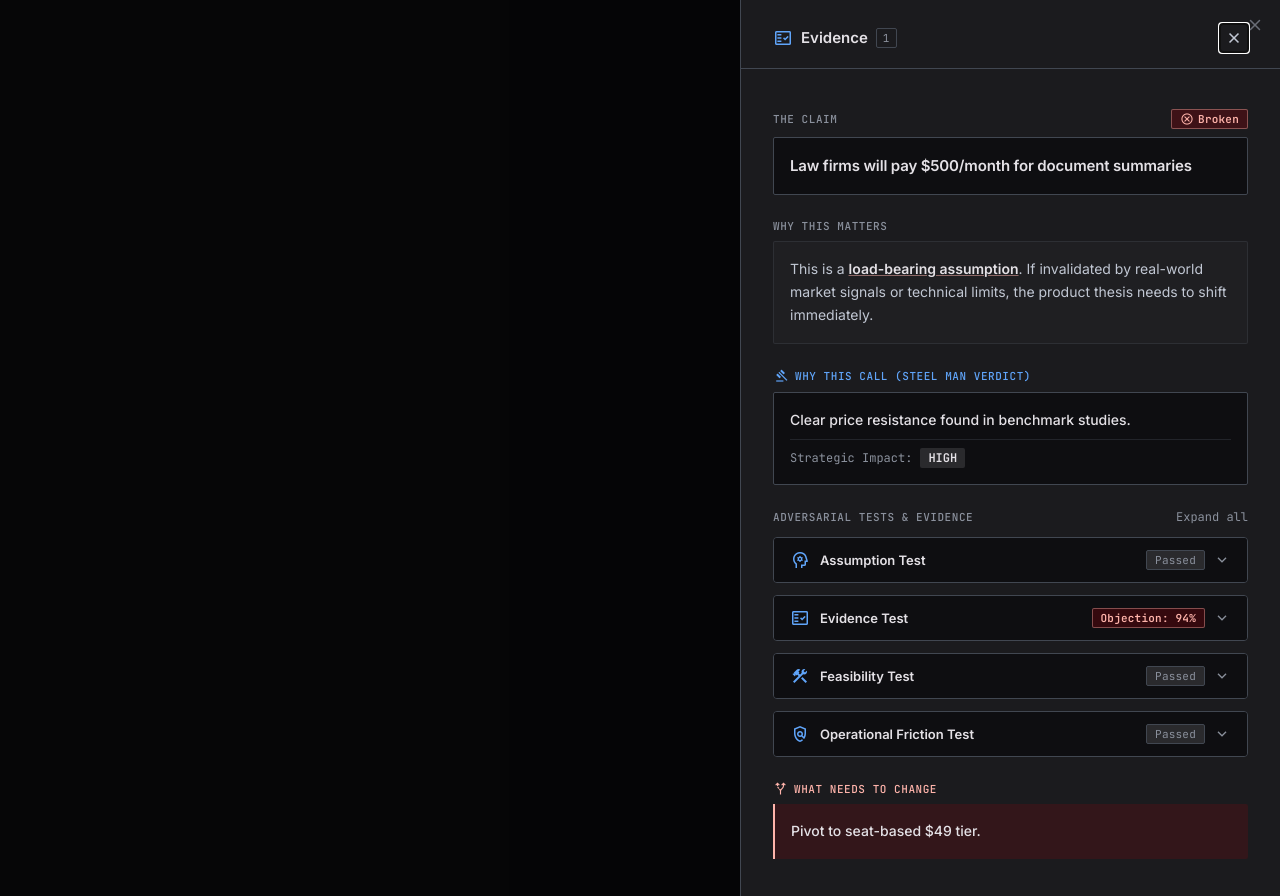
EvidenceDrawer › renders summarized findings for each test window when opened
Note: Open Assumption Test
Click the button "Assumption Test Passed": (873, 560) left=774, top=538, right=1247, bottom=582
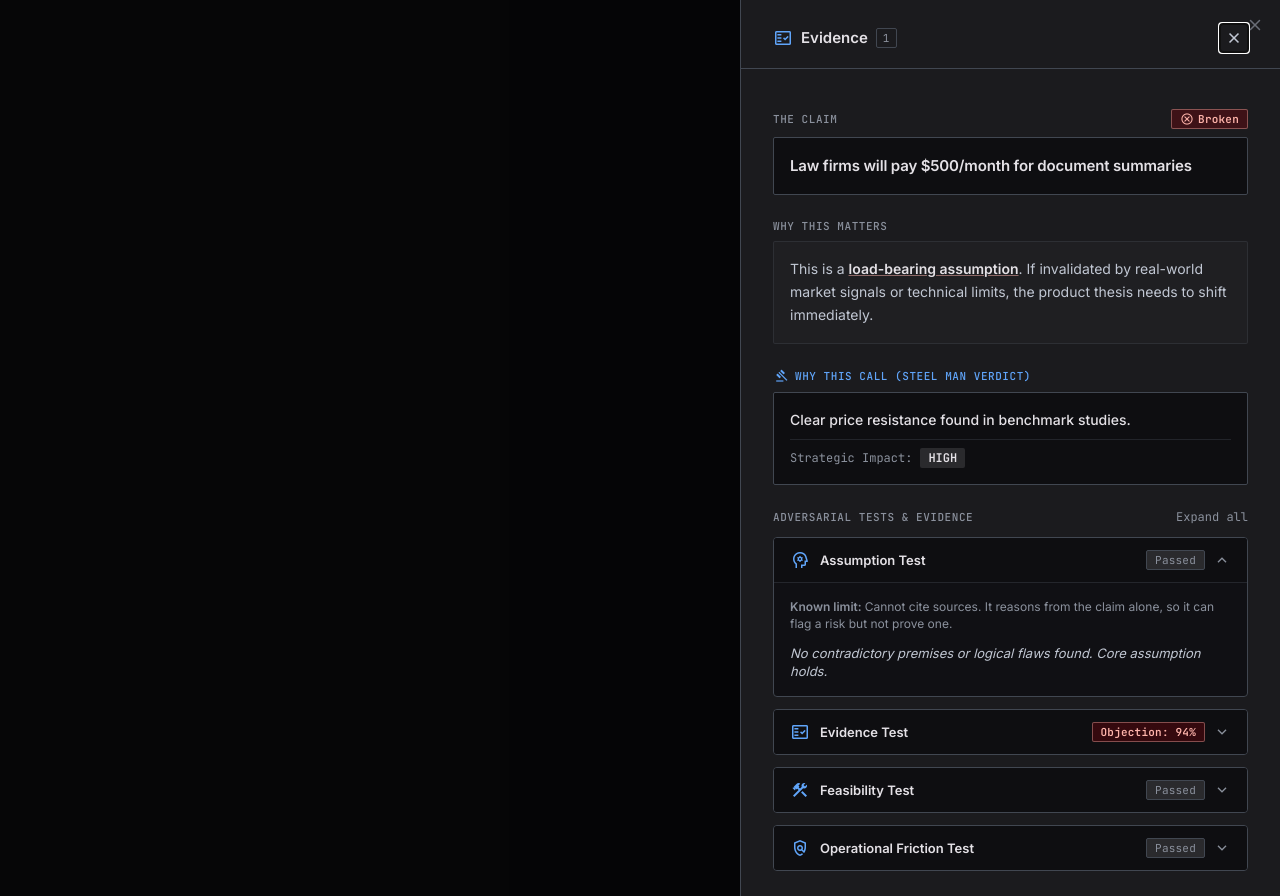
Now the text "No contradictory premises or logical flaws found" is shown, box left=790, top=645, right=1200, bottom=679
Note: Open Feasibility Test
Click the button "Feasibility Test Passed": (867, 790) left=774, top=768, right=1247, bottom=812
(page scrolled)
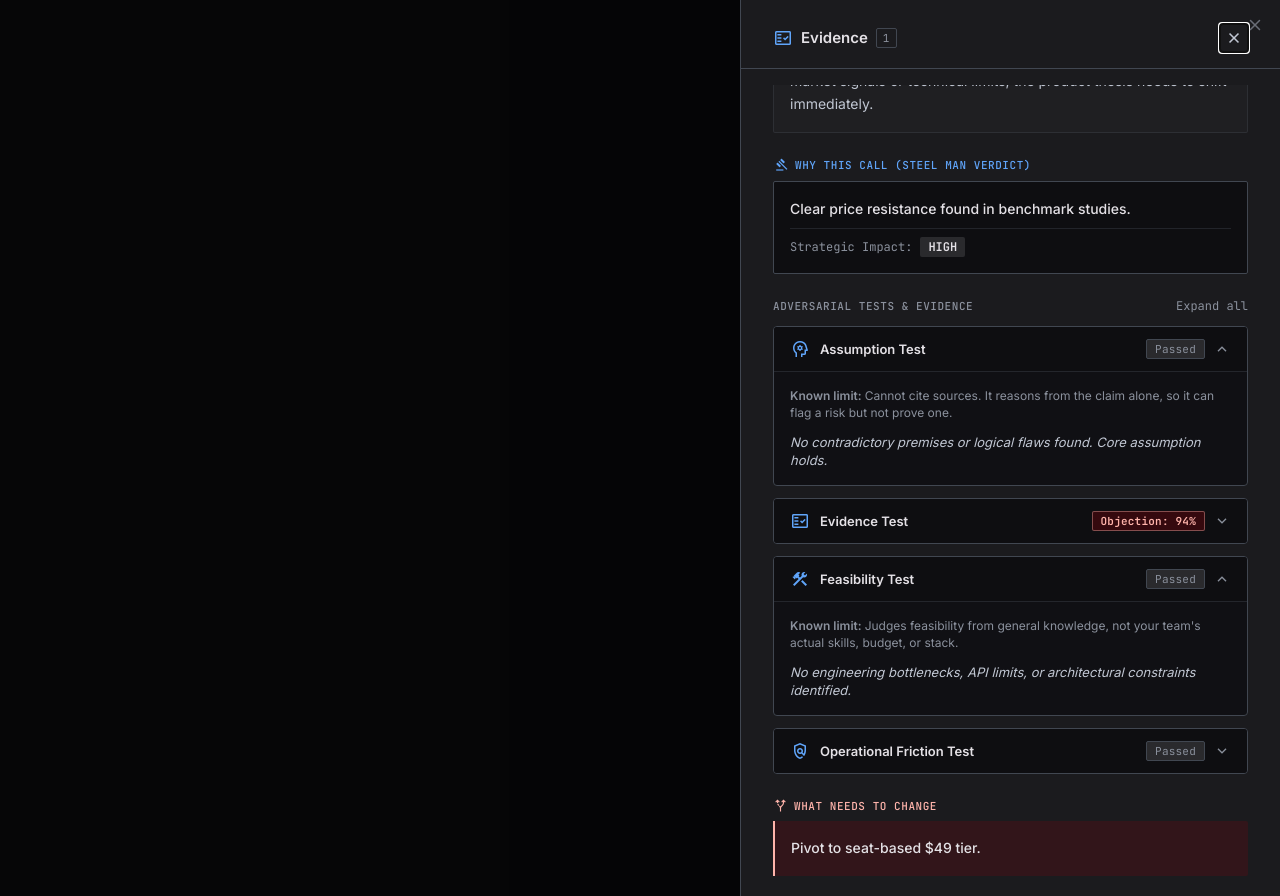
Now the text "No engineering bottlenecks, API limits" is shown, box left=790, top=664, right=1195, bottom=698
Note: Open Operational Friction Test
Click the button "Operational Friction Test Passed": (897, 751) left=774, top=729, right=1247, bottom=773
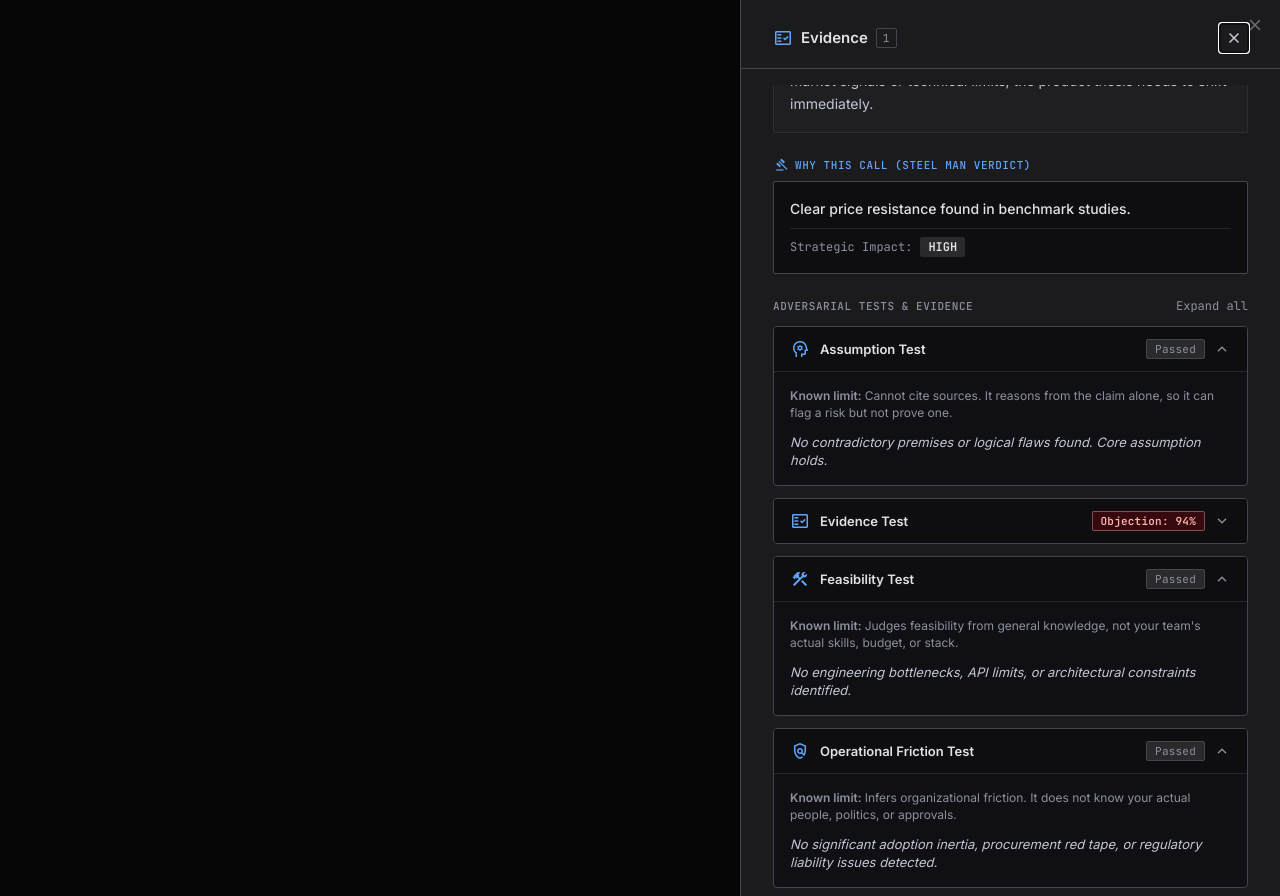
Now the text "No significant adoption inertia" is shown, box left=790, top=836, right=1202, bottom=870
